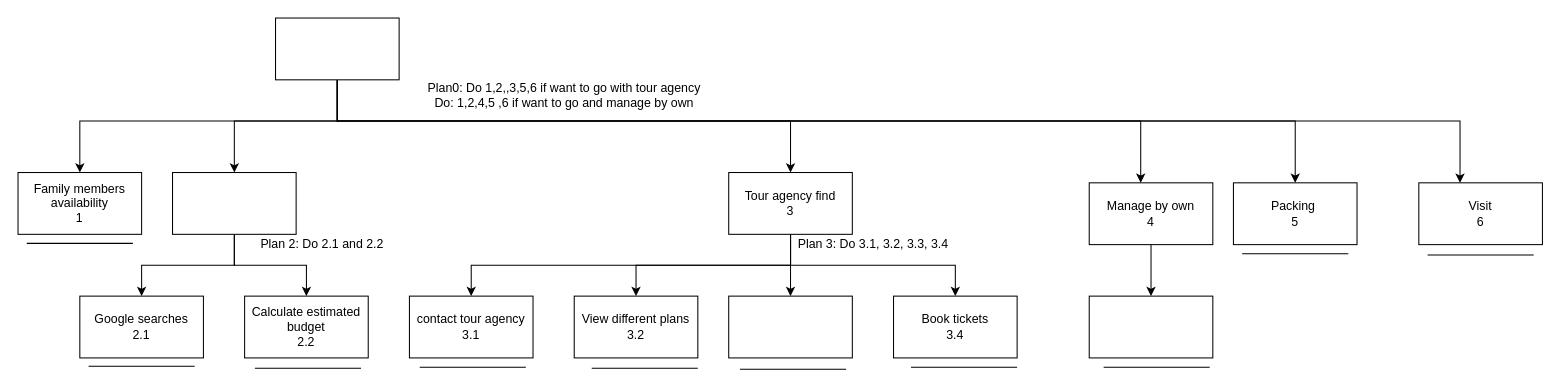
Image size: 1560x388. Some labels were removed from this diagram. The shapes that lost their labels are listed below. From the top down, each one's centre as x and y in pixels, then its label:
At point 336,48: "Vacation Planning 0".
At point 233,202: "Decide Venue 2".
At point 790,326: "Select tour agency 3.3".
At point 1150,326: "Find best possible route 4.1".
